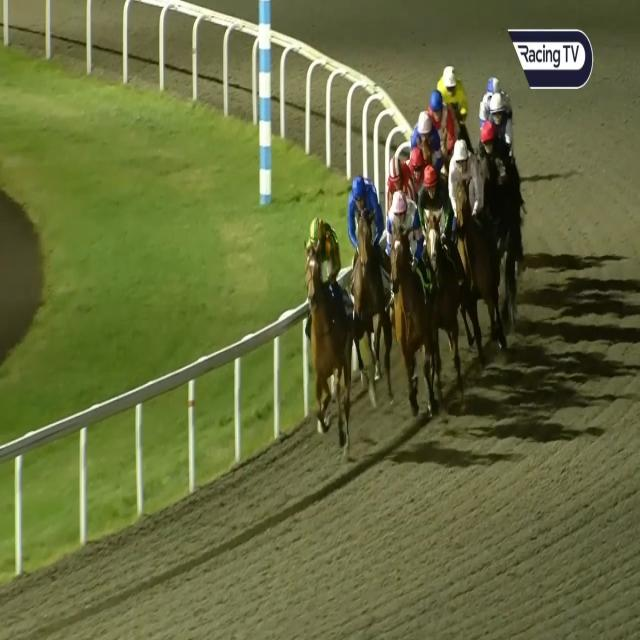horses-racing: (296, 216, 360, 454), (381, 200, 447, 399), (451, 138, 498, 327), (345, 172, 388, 346), (418, 169, 455, 339), (476, 122, 507, 185), (430, 59, 462, 119), (411, 113, 444, 166), (490, 98, 513, 151), (404, 151, 432, 190), (391, 158, 413, 200), (479, 74, 504, 104)
